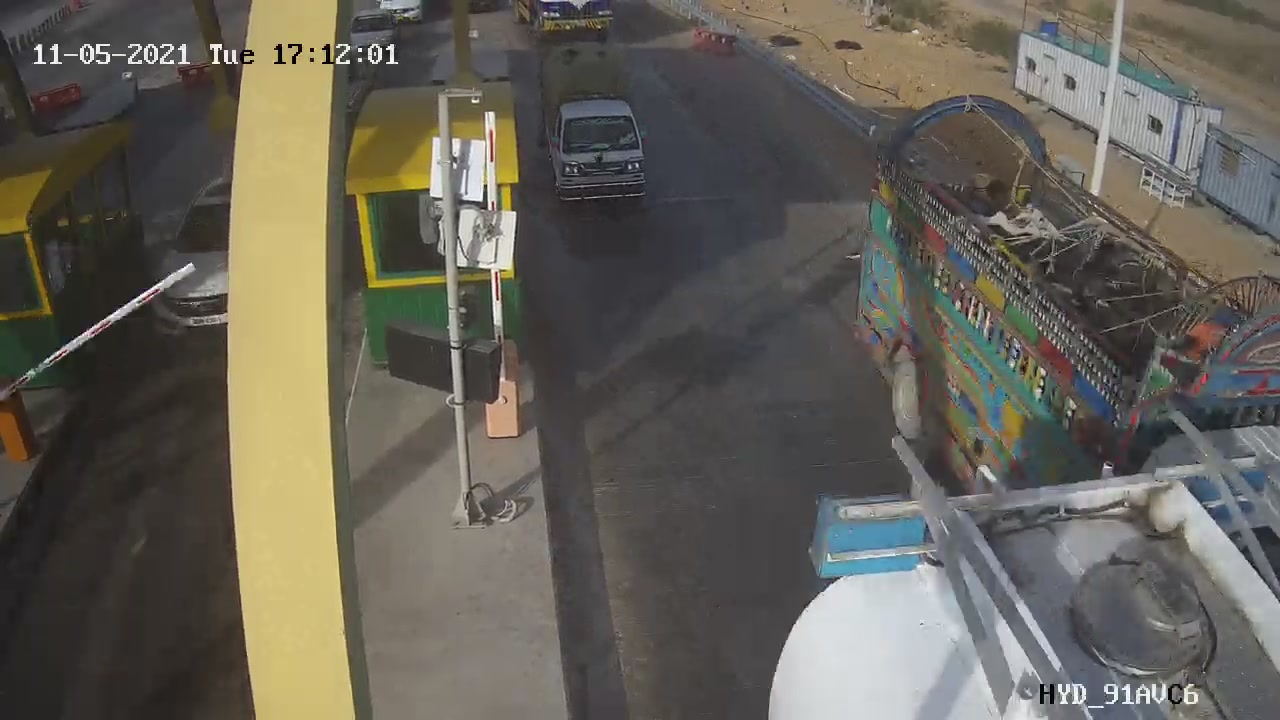F1: (531, 51, 673, 229)
